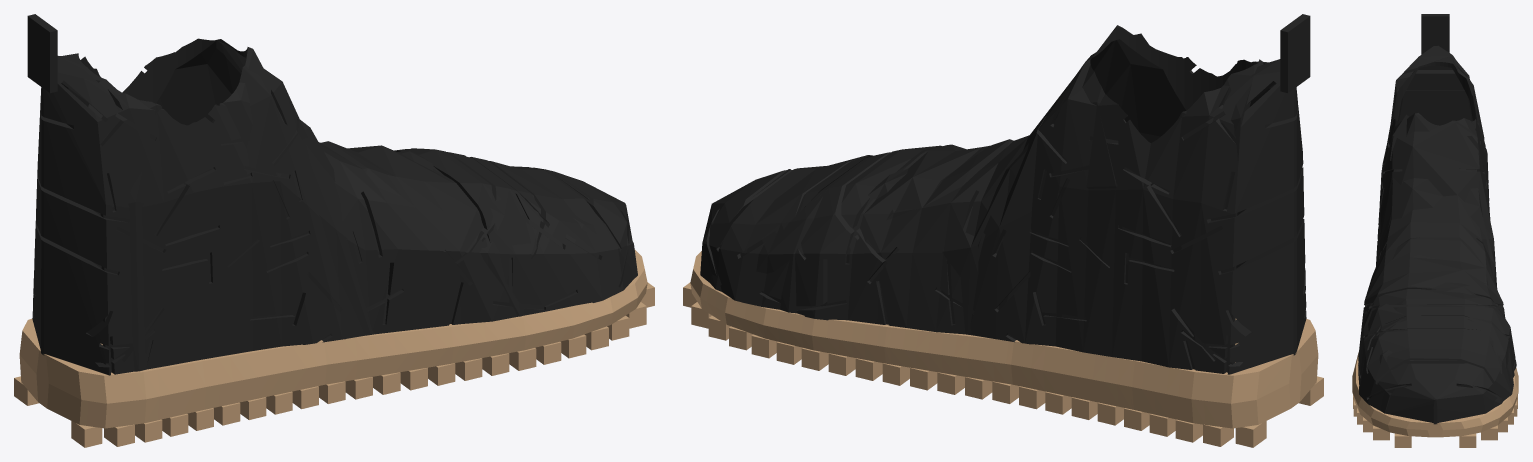
File: fault-line-boot.glb
3 renders of one model, left to right at view 1: azimuth 30°, elevation 25°; view 2: azimuth 150°, elevation 25°; view 3: azimuth 270°, elevation 25°, orthographic. The views are drawn at different scales.
Visible parts, largest first — view 1: fault-line-boot_upper, fault-line-boot_sole; view 2: fault-line-boot_upper, fault-line-boot_sole; view 3: fault-line-boot_upper, fault-line-boot_sole.
Boxes of the visible parts, left/top/right/bottom form: fault-line-boot_upper: left=27, top=14, right=637, bottom=375; fault-line-boot_sole: left=14, top=249, right=654, bottom=447; fault-line-boot_upper: left=700, top=14, right=1310, bottom=374; fault-line-boot_sole: left=683, top=251, right=1323, bottom=447; fault-line-boot_upper: left=1358, top=14, right=1516, bottom=424; fault-line-boot_sole: left=1352, top=352, right=1518, bottom=447.
Bounding box in the file's own units: 0.302 × 0.197 × 0.117.
